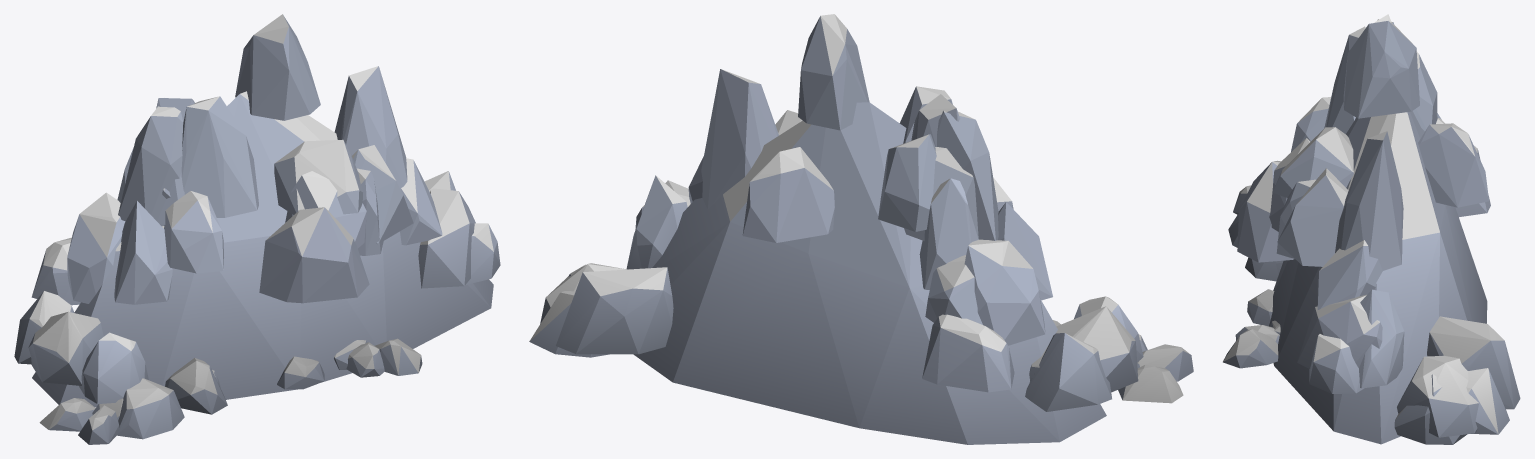
File: rk_mtns_3.glb
The picture shows the model from 3 angles, left to right: view 1: azimuth 30°, elevation 25°; view 2: azimuth 150°, elevation 25°; view 3: azimuth 270°, elevation 25°; orthographic projection. The views are drawn at different scales.
Parts seen in each view (by area): view 1: rk_mtns_3; view 2: rk_mtns_3; view 3: rk_mtns_3.
Part boxes in pixels (left/top/right/bottom): rk_mtns_3: left=14, top=14, right=500, bottom=444; rk_mtns_3: left=529, top=14, right=1193, bottom=444; rk_mtns_3: left=1223, top=14, right=1520, bottom=444.
Size of the model in its own units: 114 by 69.05 by 58.02.
